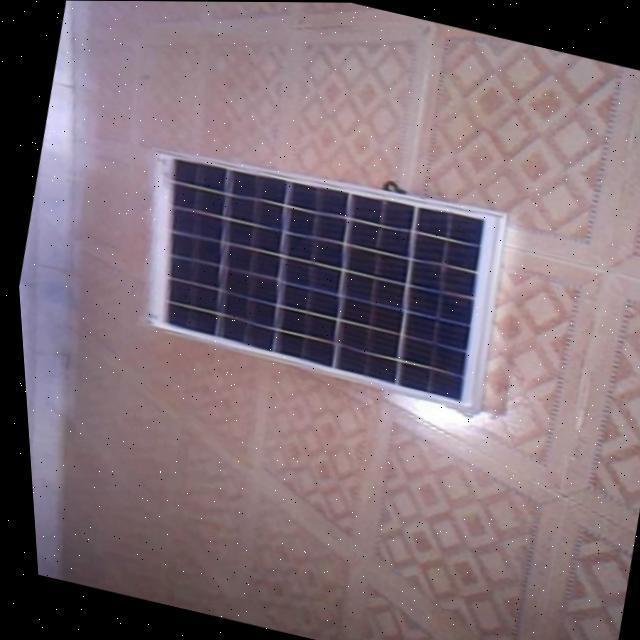Normal Solar Panel: (111, 130, 518, 412)
